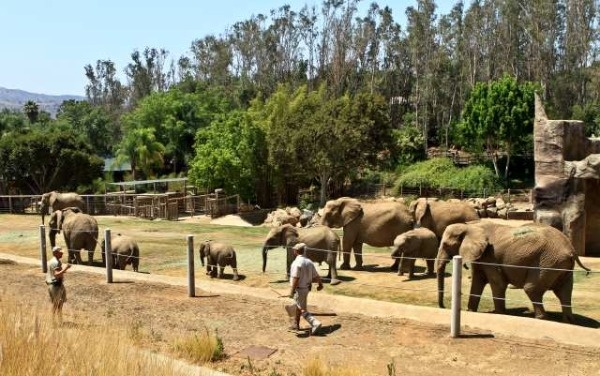elephant: (435, 216, 576, 315), (314, 197, 414, 273), (255, 223, 345, 285), (47, 208, 98, 265), (98, 233, 141, 271), (198, 237, 238, 276)
